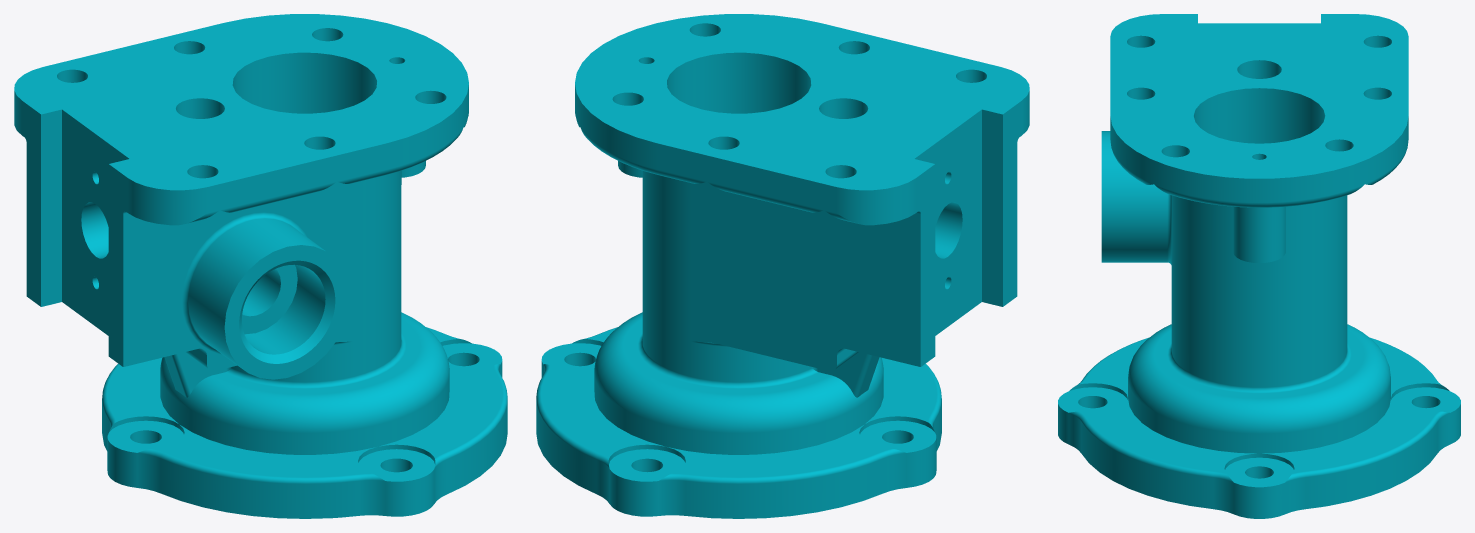
3 renders of one model, left to right at view 1: azimuth 30°, elevation 25°; view 2: azimuth 150°, elevation 25°; view 3: azimuth 270°, elevation 25°, orthographic. The views are drawn at different scales.
Visible parts, largest first — view 1: （第八页）最终版.SLDPRT; view 2: （第八页）最终版.SLDPRT; view 3: （第八页）最终版.SLDPRT.
Part boxes in pixels (x1,y1,x2,y2): （第八页）最终版.SLDPRT: [14, 14, 507, 518]; （第八页）最终版.SLDPRT: [536, 14, 1029, 518]; （第八页）最终版.SLDPRT: [1058, 14, 1460, 518].
Size of the model in its own units: 0.1009 by 0.08 by 0.0919.
